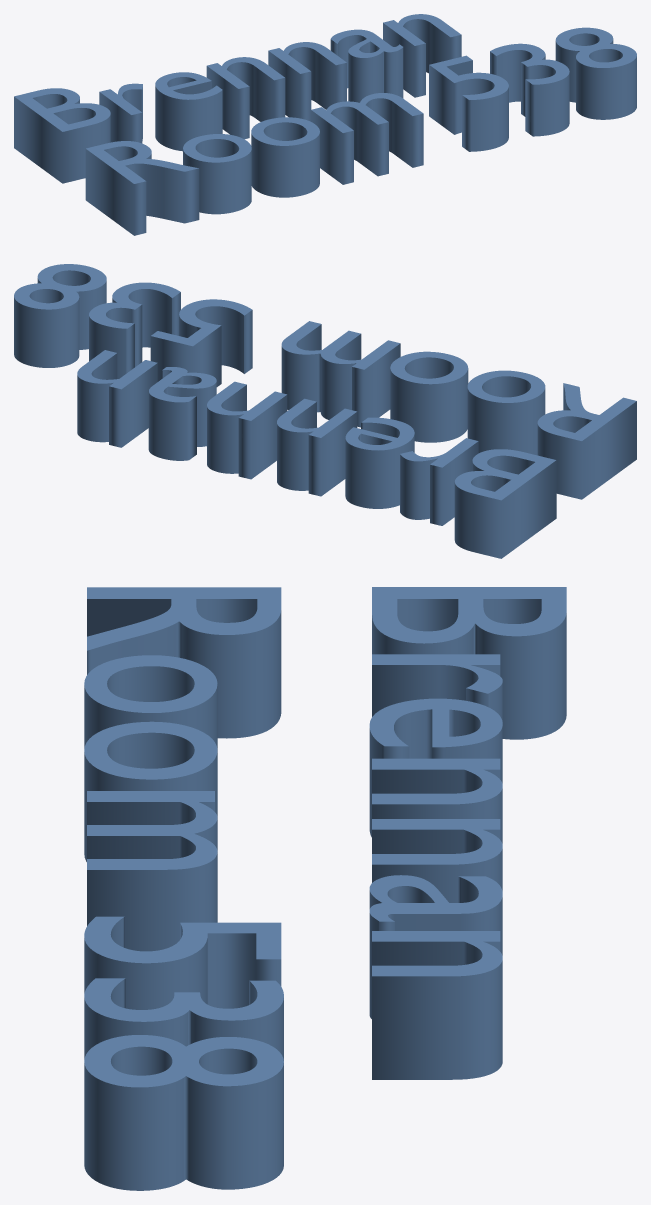
The model's file is brennan-538.gltf.
The picture shows the model from 3 angles, top to bottom: view 1: azimuth 30°, elevation 25°; view 2: azimuth 150°, elevation 25°; view 3: azimuth 270°, elevation 25°; orthographic projection. The views are drawn at different scales.
Visible parts, largest first — view 1: Text; view 2: Text; view 3: Text.
Part boxes in pixels (x1,y1,x2,y2): Text: (14,14,636,235); Text: (14,264,636,558); Text: (84,587,566,1190).
Size of the model in its own units: 4.15 by 0.4 by 1.69.
